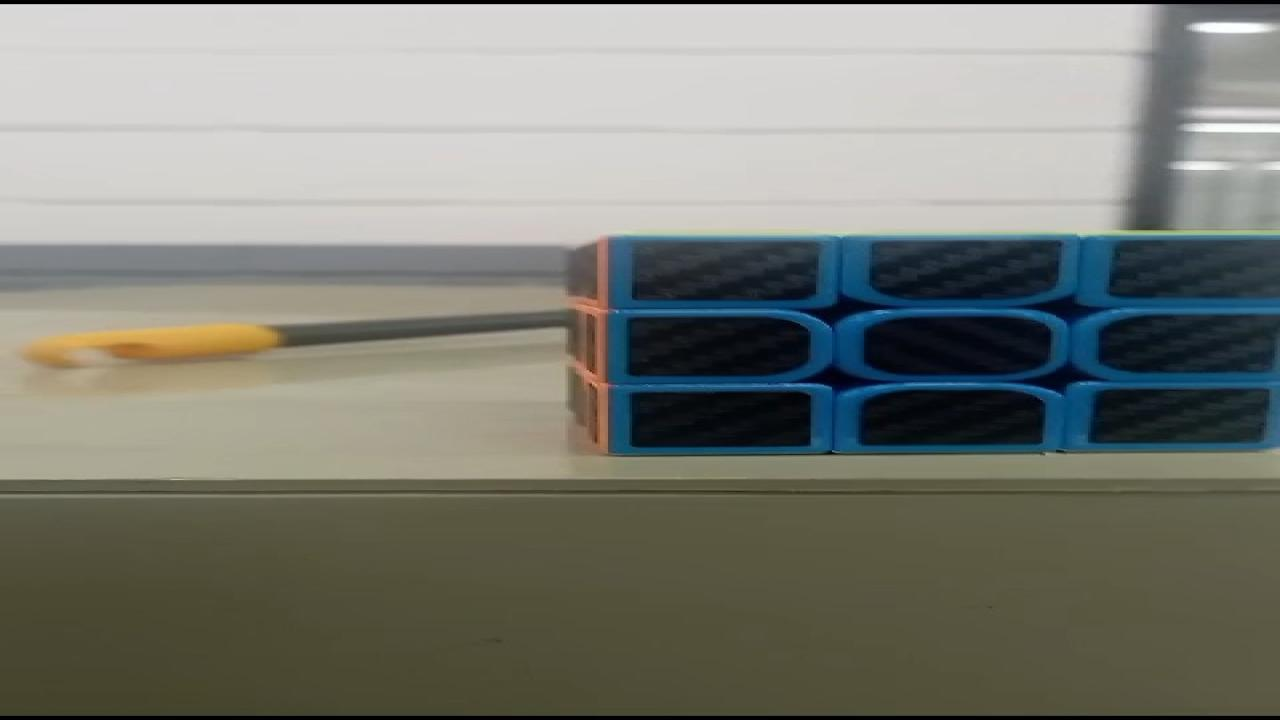Cube: (560, 228, 1275, 457)
